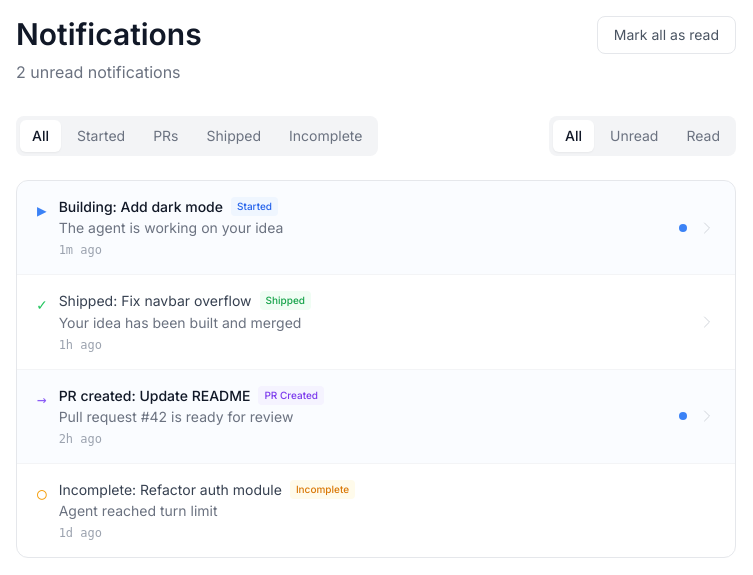
Test: NotificationsPage › Type filter interactions › filters to only task_started when Started is clicked
Check: the text "Building: Add dark mode" is shown, box [59,197,223,216]
Click the button "Started": click(101, 136) [65,120,137,152]
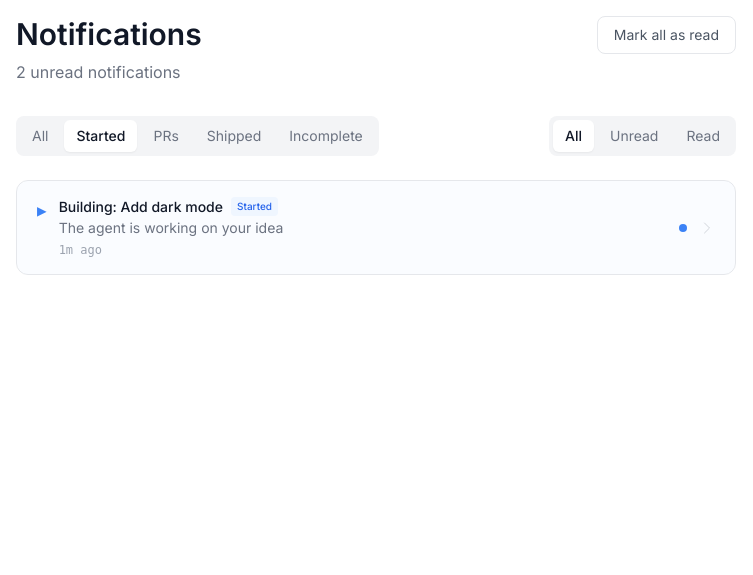
Check: the text "Shipped: Fix navbar overflow" is gone
Check: the text "PR created: Update README" is gone
Check: the text "Incomplete: Refactor auth module" is gone
